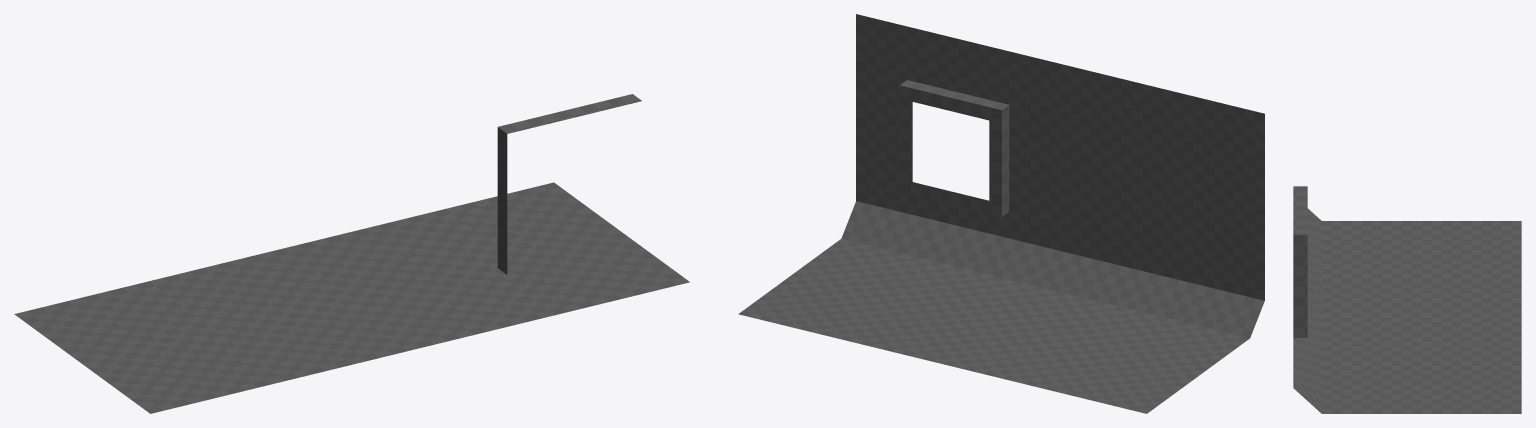
The picture shows the model from 3 angles, left to right: view 1: azimuth 30°, elevation 25°; view 2: azimuth 150°, elevation 25°; view 3: azimuth 270°, elevation 25°; orthographic projection. The views are drawn at different scales.
Visible parts, largest first — view 1: CubeInUpBackV1; view 2: CubeInUpBackV1; view 3: CubeInUpBackV1.
Boxes of the visible parts, <box> form: CubeInUpBackV1: <box>14,94,689,413</box>; CubeInUpBackV1: <box>738,14,1264,413</box>; CubeInUpBackV1: <box>1293,186,1521,413</box>.
Bounding box in the file's own units: 4 × 2 × 2.
Materials: 1 (1 with a texture image).
